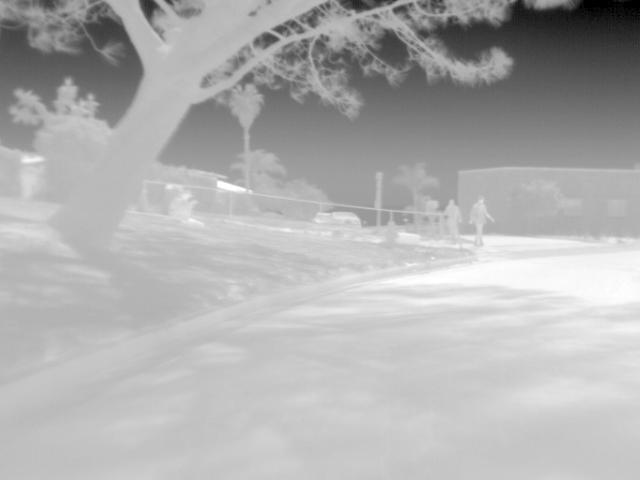car: (326, 209, 366, 230)
person: (466, 196, 495, 246), (444, 198, 462, 243)
